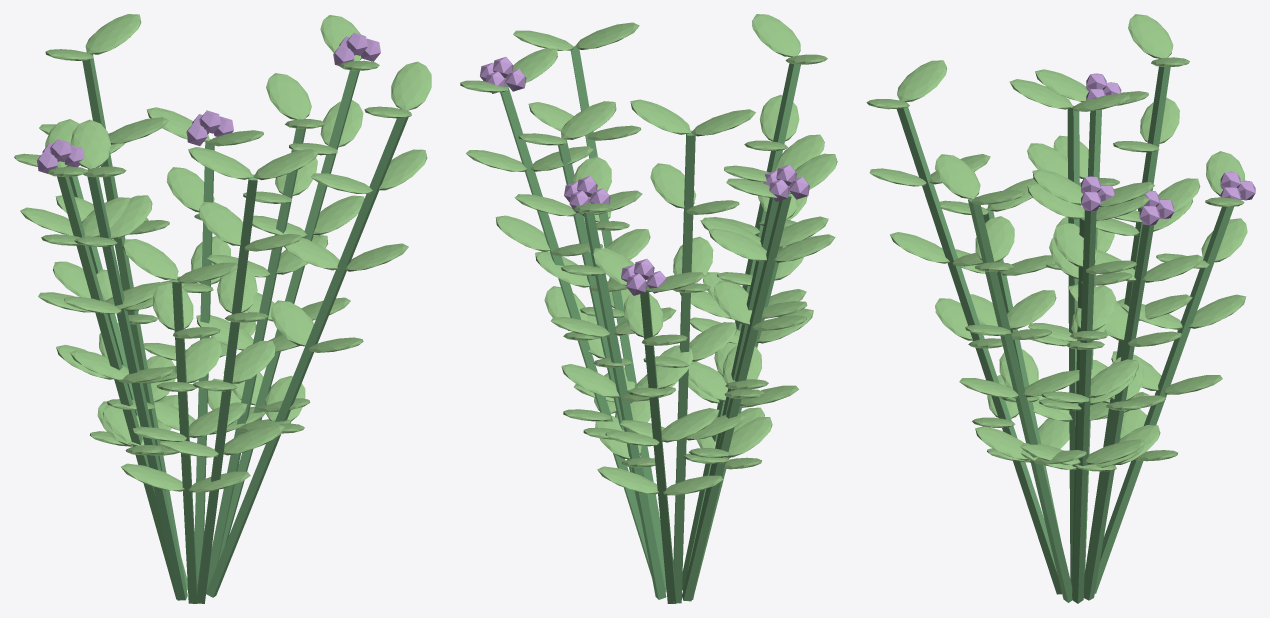
File: alfalfa.glb
3 renders of one model, left to right at view 1: azimuth 30°, elevation 25°; view 2: azimuth 150°, elevation 25°; view 3: azimuth 270°, elevation 25°, orthographic. The views are drawn at different scales.
Visible parts, largest first — view 1: verde, verde_osc, morado; view 2: verde, verde_osc, morado; view 3: verde, verde_osc, morado.
Boxes of the visible parts, left/top/right/bottom form: verde: left=14, top=14, right=431, bottom=492; verde_osc: left=57, top=52, right=410, bottom=603; morado: left=37, top=32, right=380, bottom=173; verde: left=460, top=14, right=837, bottom=495; verde_osc: left=500, top=46, right=800, bottom=603; morado: left=480, top=57, right=809, bottom=295; verde: left=866, top=14, right=1247, bottom=471; verde_osc: left=896, top=66, right=1233, bottom=603; morado: left=1081, top=73, right=1255, bottom=225.
Size of the model in its own units: 0.4009 by 0.592 by 0.3954.
